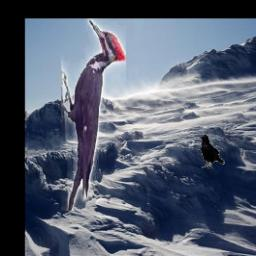Crow: (200, 134, 226, 168)
Woodpecker: (62, 18, 127, 211)
